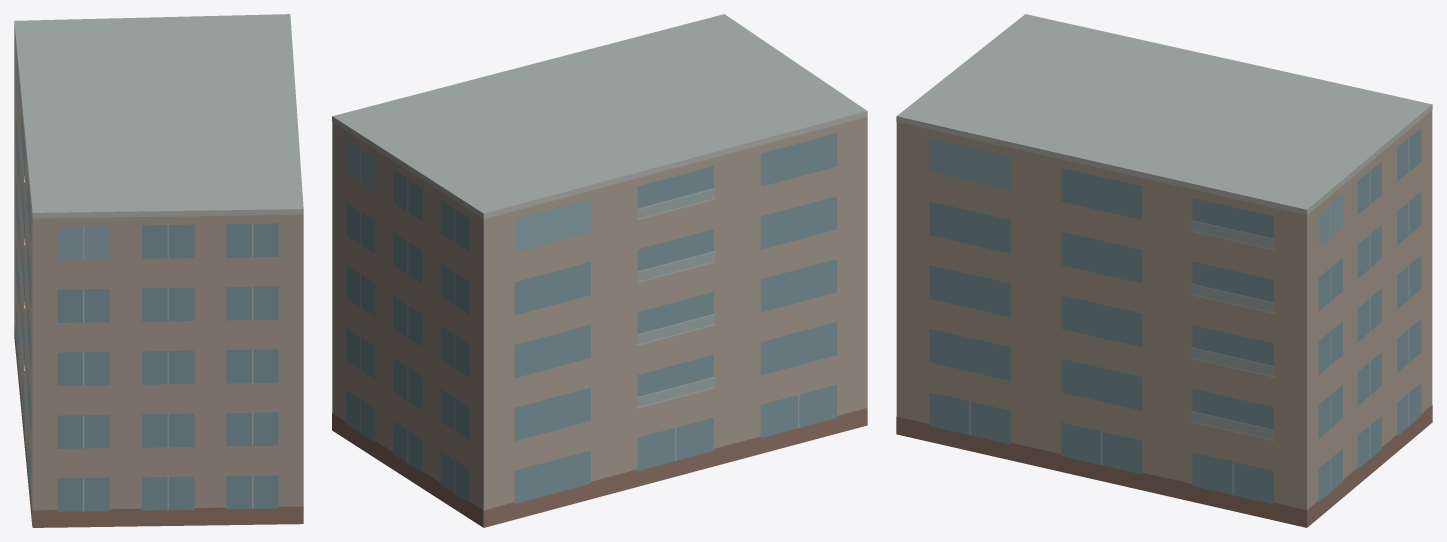
File: survey-upis-32670894.glb
3 views of the same model, side by side, from view 1: azimuth 30°, elevation 25°; view 2: azimuth 150°, elevation 25°; view 3: azimuth 270°, elevation 25° (orthographic).
Parts seen in each view (by area): view 1: survey-upis-32670894.tmp; view 2: survey-upis-32670894.tmp; view 3: survey-upis-32670894.tmp.
Part boxes in pixels (x1=…): survey-upis-32670894.tmp: x1=14, y1=14, x2=303, y2=527; survey-upis-32670894.tmp: x1=332, y1=14, x2=867, y2=527; survey-upis-32670894.tmp: x1=896, y1=14, x2=1432, y2=527.
Size of the model in its own units: 18.23 by 13.8 by 21.08.
